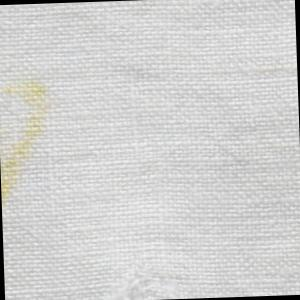Stain: (1, 77, 61, 209)
